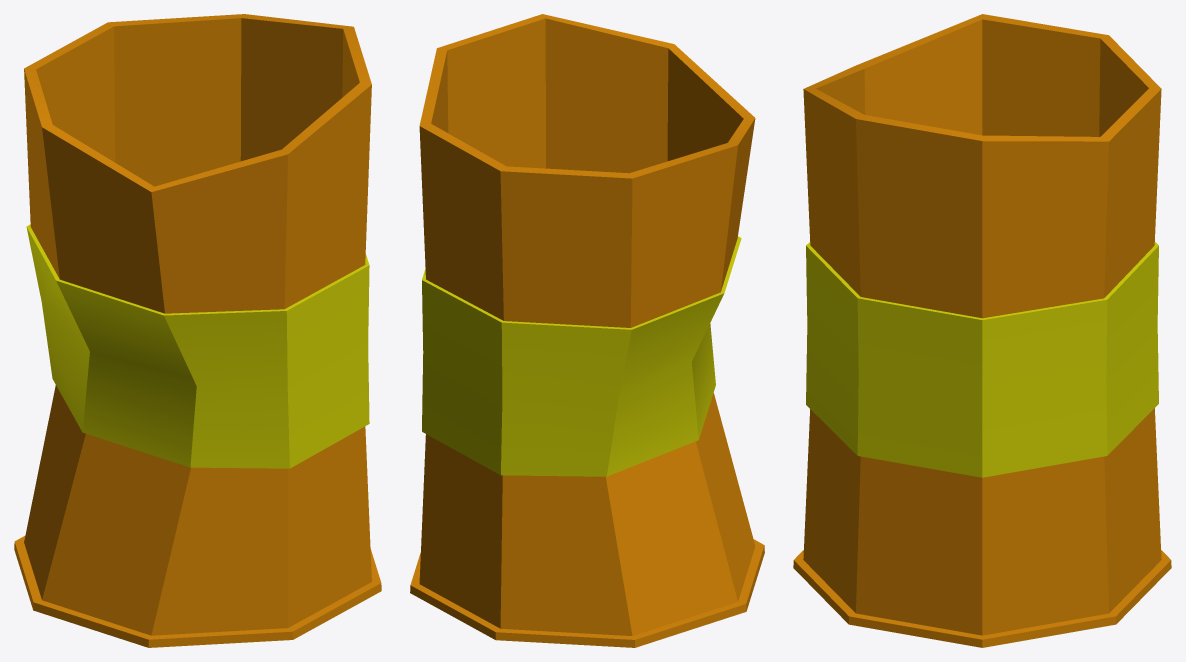
Rendered from Waste_BarrelDented.fbx.
3 views of the same model, side by side, from view 1: azimuth 30°, elevation 25°; view 2: azimuth 150°, elevation 25°; view 3: azimuth 270°, elevation 25° (orthographic). The views are drawn at different scales.
Parts seen in each view (by area): view 1: Dented_Barrel; view 2: Dented_Barrel; view 3: Dented_Barrel.
Part boxes in pixels (<box>): Dented_Barrel: <box>14,14,381,647</box>; Dented_Barrel: <box>410,14,764,647</box>; Dented_Barrel: <box>793,14,1171,647</box>.
Size of the model in its own units: 0.7307 by 1.08 by 0.7307.
